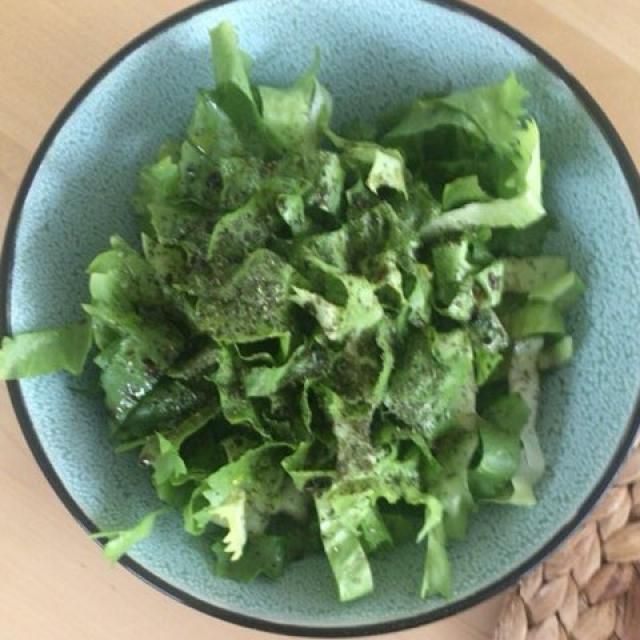salad: (22, 51, 569, 585)
